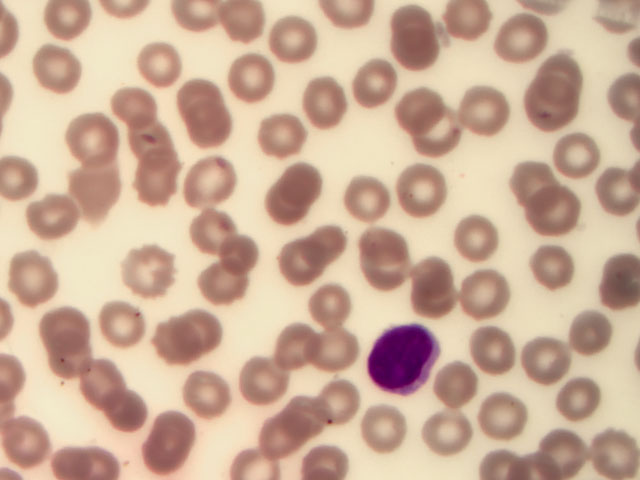RBC: (30, 40, 88, 100), (64, 103, 122, 163), (69, 158, 127, 218), (26, 187, 84, 247), (2, 241, 60, 301), (29, 294, 87, 354), (39, 323, 97, 383), (63, 353, 121, 413), (91, 383, 149, 443), (94, 294, 152, 354), (113, 246, 171, 306), (182, 153, 240, 213), (131, 151, 189, 211), (125, 114, 183, 174), (110, 78, 168, 138), (137, 31, 195, 91), (172, 59, 230, 119), (177, 103, 235, 163), (220, 51, 278, 111), (265, 9, 323, 69), (294, 73, 352, 133), (346, 53, 404, 113), (381, 27, 439, 87), (488, 12, 546, 72), (527, 35, 585, 95), (527, 79, 585, 139), (458, 82, 516, 142), (416, 111, 474, 171), (389, 80, 447, 140), (399, 163, 457, 223), (342, 168, 400, 228), (279, 152, 337, 212), (261, 172, 319, 232), (253, 110, 311, 170), (349, 228, 407, 288), (309, 214, 367, 274), (271, 231, 329, 291), (220, 232, 278, 292), (185, 202, 243, 262), (191, 251, 249, 311), (181, 301, 239, 361), (148, 313, 206, 373), (180, 372, 238, 432), (147, 420, 205, 480), (237, 351, 295, 411), (261, 322, 319, 382), (305, 324, 363, 384), (311, 275, 369, 335), (407, 241, 465, 301), (452, 208, 510, 268), (456, 266, 514, 326), (465, 322, 523, 382), (427, 353, 485, 413), (421, 402, 479, 462), (358, 401, 416, 461), (307, 371, 365, 431), (288, 388, 346, 448), (253, 407, 311, 467), (474, 386, 532, 446), (514, 325, 572, 385), (559, 303, 617, 363), (582, 250, 640, 310), (524, 237, 582, 297), (525, 190, 583, 250), (511, 157, 569, 217), (555, 122, 613, 182), (582, 155, 640, 215), (556, 365, 614, 425), (531, 420, 589, 480), (582, 420, 640, 480), (443, 1, 501, 60), (1, 409, 58, 469), (37, 1, 99, 43)
WBC: (368, 322, 443, 397)
